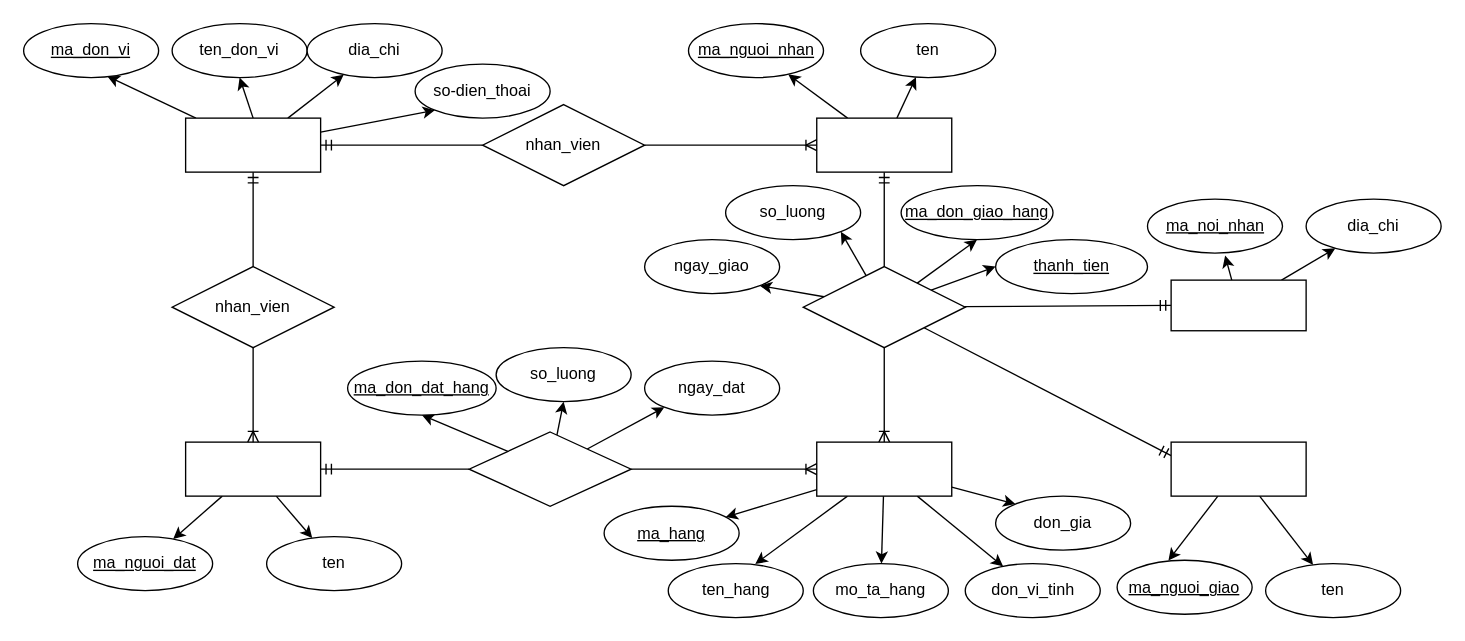
This 1465x641 diagram has some shape labels left out. The shapes that lost their labels are listed below. From the top down, each one's centre as x and y in pixels, then its label:
At pixel 252 144: "don_vi_dat_hang".
At pixel 883 144: "nguoi_nhan_hang".
At pixel 883 306: "giao_hang".
At pixel 1238 305: "noi_nhan".
At pixel 252 468: "nguoi_dat_hang".
At pixel 549 468: "dat_hang".
At pixel 883 468: "hang".
At pixel 1238 468: "nguoi_giao_hang".
